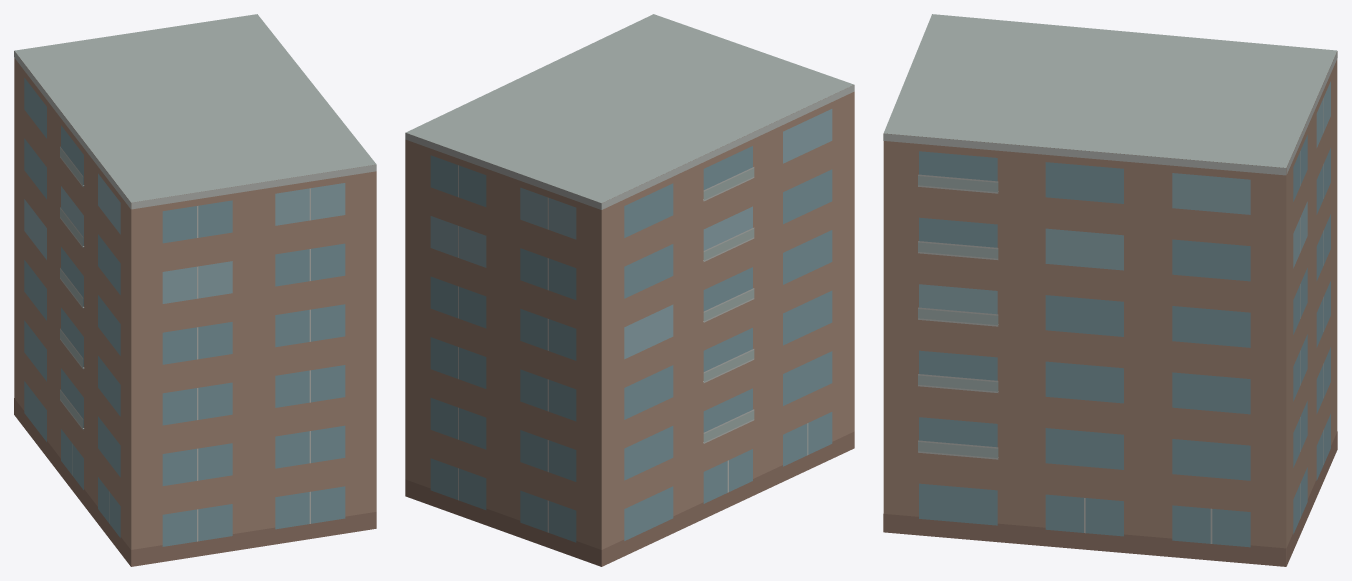
File: survey-upis-32931621.glb
3 views of the same model, side by side, from view 1: azimuth 30°, elevation 25°; view 2: azimuth 150°, elevation 25°; view 3: azimuth 270°, elevation 25° (orthographic). The views are drawn at different scales.
Visible parts, largest first — view 1: survey-upis-32931621.tmp; view 2: survey-upis-32931621.tmp; view 3: survey-upis-32931621.tmp.
Part boxes in pixels (x1,y1,x2,y2): survey-upis-32931621.tmp: (14, 14, 376, 566); survey-upis-32931621.tmp: (405, 14, 854, 566); survey-upis-32931621.tmp: (883, 14, 1337, 566).
Bounding box in the file's own units: 10.77 × 13 × 13.42.
